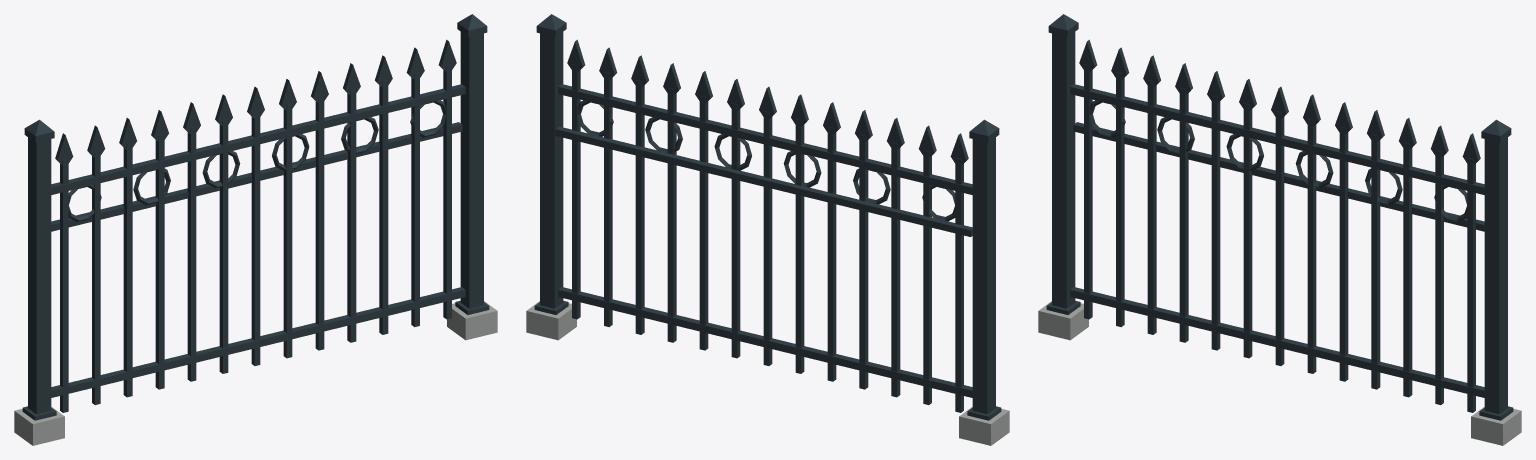
Rendered from b19_ornamental_iron_fence.glb.
3 views of the same model, side by side, from view 1: azimuth 30°, elevation 25°; view 2: azimuth 150°, elevation 25°; view 3: azimuth 330°, elevation 25° (orthographic).
Visible parts, largest first — view 1: b19_ornamental_iron_fence; view 2: b19_ornamental_iron_fence; view 3: b19_ornamental_iron_fence.
Boxes of the visible parts, x1,y1,x2,y2 form: b19_ornamental_iron_fence: (14,14,497,445); b19_ornamental_iron_fence: (526,14,1009,445); b19_ornamental_iron_fence: (1038,14,1521,445).
Bounding box in the file's own units: 2.68 × 1.74 × 0.185.
